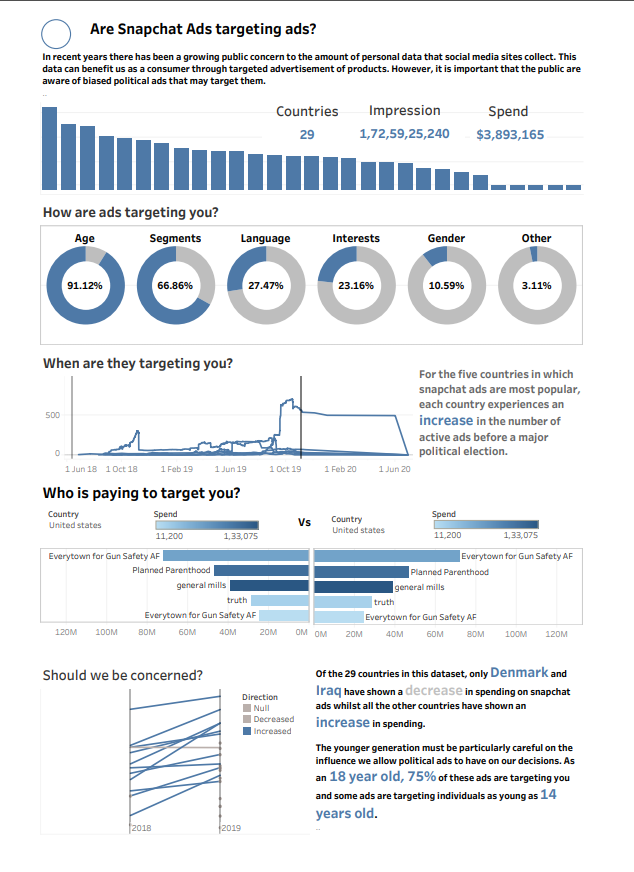

What the dashboard file says about the page in this screenshot:
{"tool":"tableau","page":{"name":"Dashboard 1","canvas":[1000,1500],"ordinal":0},"visuals":[{"type":"text","box":[0,0,1000,153.5]},{"type":"worksheet","title":"Icon","mark":"Shape","box":[2,0,263,68]},{"type":"worksheet","title":"Impression","mark":"Automatic","box":[561,147,243,84]},{"type":"worksheet","title":"Spend","mark":"Automatic","box":[790,149,172,91]},{"type":"worksheet","title":"Countries","mark":"Automatic","box":[409,150,167,85]},{"type":"worksheet","title":"No of ads","mark":"Automatic","rows":["Ad ID"],"cols":["Country"],"box":[0,153.5,1000,176.1]},{"type":"worksheet","title":"Donut","mark":"Pie","rows":["Calculation_2939161748623409154","Calculation_2939161748623409154"],"cols":["Pivot Field Names"],"box":[0,329.7,1000,275.9]},{"type":"worksheet","title":"Time based Targeting","mark":"Automatic","rows":["Calculation_2939161748644691976"],"cols":["Pivot Field Values"],"box":[0,605.6,689,237.7]},{"type":"text","box":[689,605.6,311,237.7]},{"type":"text","box":[0,843.3,1000,53.3]},{"type":"text","box":[472,893,108,62]},{"type":"legend","title":"Bar 1","param":"[federated.1nmf2am1wj9iqd17dfc1j1b0oody].[sum:Spend:qk]","box":[720,895,199,61]},{"type":"legend","title":"Bar 2","param":"[federated.1nmf2am1wj9iqd17dfc1j1b0oody].[sum:Spend:qk]","box":[211,896,196,64]},{"type":"blank","box":[0,896.6,1000,72.4]},{"type":"filter","title":"Bar 2","param":"[federated.1nmf2am1wj9iqd17dfc1j1b0oody].[none:Country:nk]","box":[18,898,160,53]},{"type":"filter","title":"Bar 1","param":"[federated.1nmf2am1wj9iqd17dfc1j1b0oody].[none:Country:nk]","box":[536,907,160,54]},{"type":"worksheet","title":"Bar 2","mark":"Automatic","rows":["Country","Ad ID"],"cols":["Impressions"],"box":[0,968.9,500,208.1]},{"type":"worksheet","title":"Bar 1","mark":"Automatic","rows":["Country","Ad ID"],"cols":["Impressions"],"box":[500,968.9,500,208.1]},{"type":"worksheet","title":"Slope","mark":"Automatic","rows":["Spend"],"cols":["StartDate"],"box":[0,1177,500,323]},{"type":"text","box":[500,1177,500,323]},{"type":"legend","title":"Slope","param":"[federated.1nmf2am1wj9iqd17dfc1j1b0oody].[usr:Calculation_2939161748652212235:nk","box":[372,1232,140,85]}]}

Visuals, with their boxes on the page's 1000x1500 design canvas (x1, y1, x2, y2). These are canvas units, not pixel positions in the 634x872 screenshot, which may show the page scaled, cropped or inside an application window:
text: select_region(0, 0, 1000, 154)
"Icon" worksheet (Shape marks): select_region(2, 0, 265, 68)
"Impression" worksheet: select_region(561, 147, 804, 231)
"Spend" worksheet: select_region(790, 149, 962, 240)
"Countries" worksheet: select_region(409, 150, 576, 235)
"No of ads" worksheet: select_region(0, 154, 1000, 330)
"Donut" worksheet (Pie marks): select_region(0, 330, 1000, 606)
"Time based Targeting" worksheet: select_region(0, 606, 689, 843)
text: select_region(689, 606, 1000, 843)
text: select_region(0, 843, 1000, 897)
text: select_region(472, 893, 580, 955)
"Bar 1" legend: select_region(720, 895, 919, 956)
"Bar 2" legend: select_region(211, 896, 407, 960)
blank: select_region(0, 897, 1000, 969)
"Bar 2" filter: select_region(18, 898, 178, 951)
"Bar 1" filter: select_region(536, 907, 696, 961)
"Bar 2" worksheet: select_region(0, 969, 500, 1177)
"Bar 1" worksheet: select_region(500, 969, 1000, 1177)
"Slope" worksheet: select_region(0, 1177, 500, 1500)
text: select_region(500, 1177, 1000, 1500)
"Slope" legend: select_region(372, 1232, 512, 1317)
